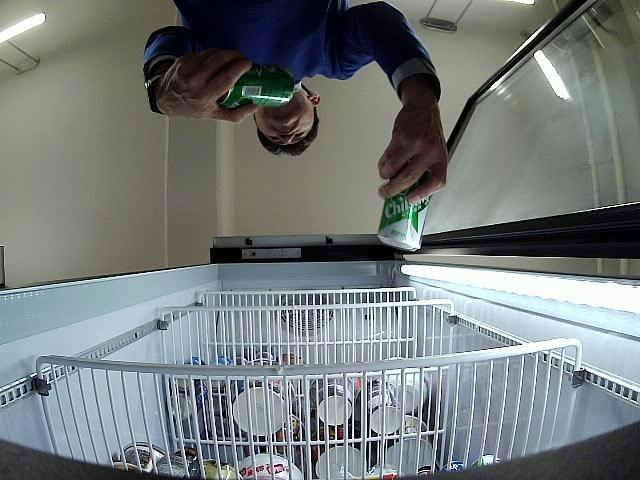12_chilsungCider: (377, 166, 431, 252), (217, 66, 296, 110)
